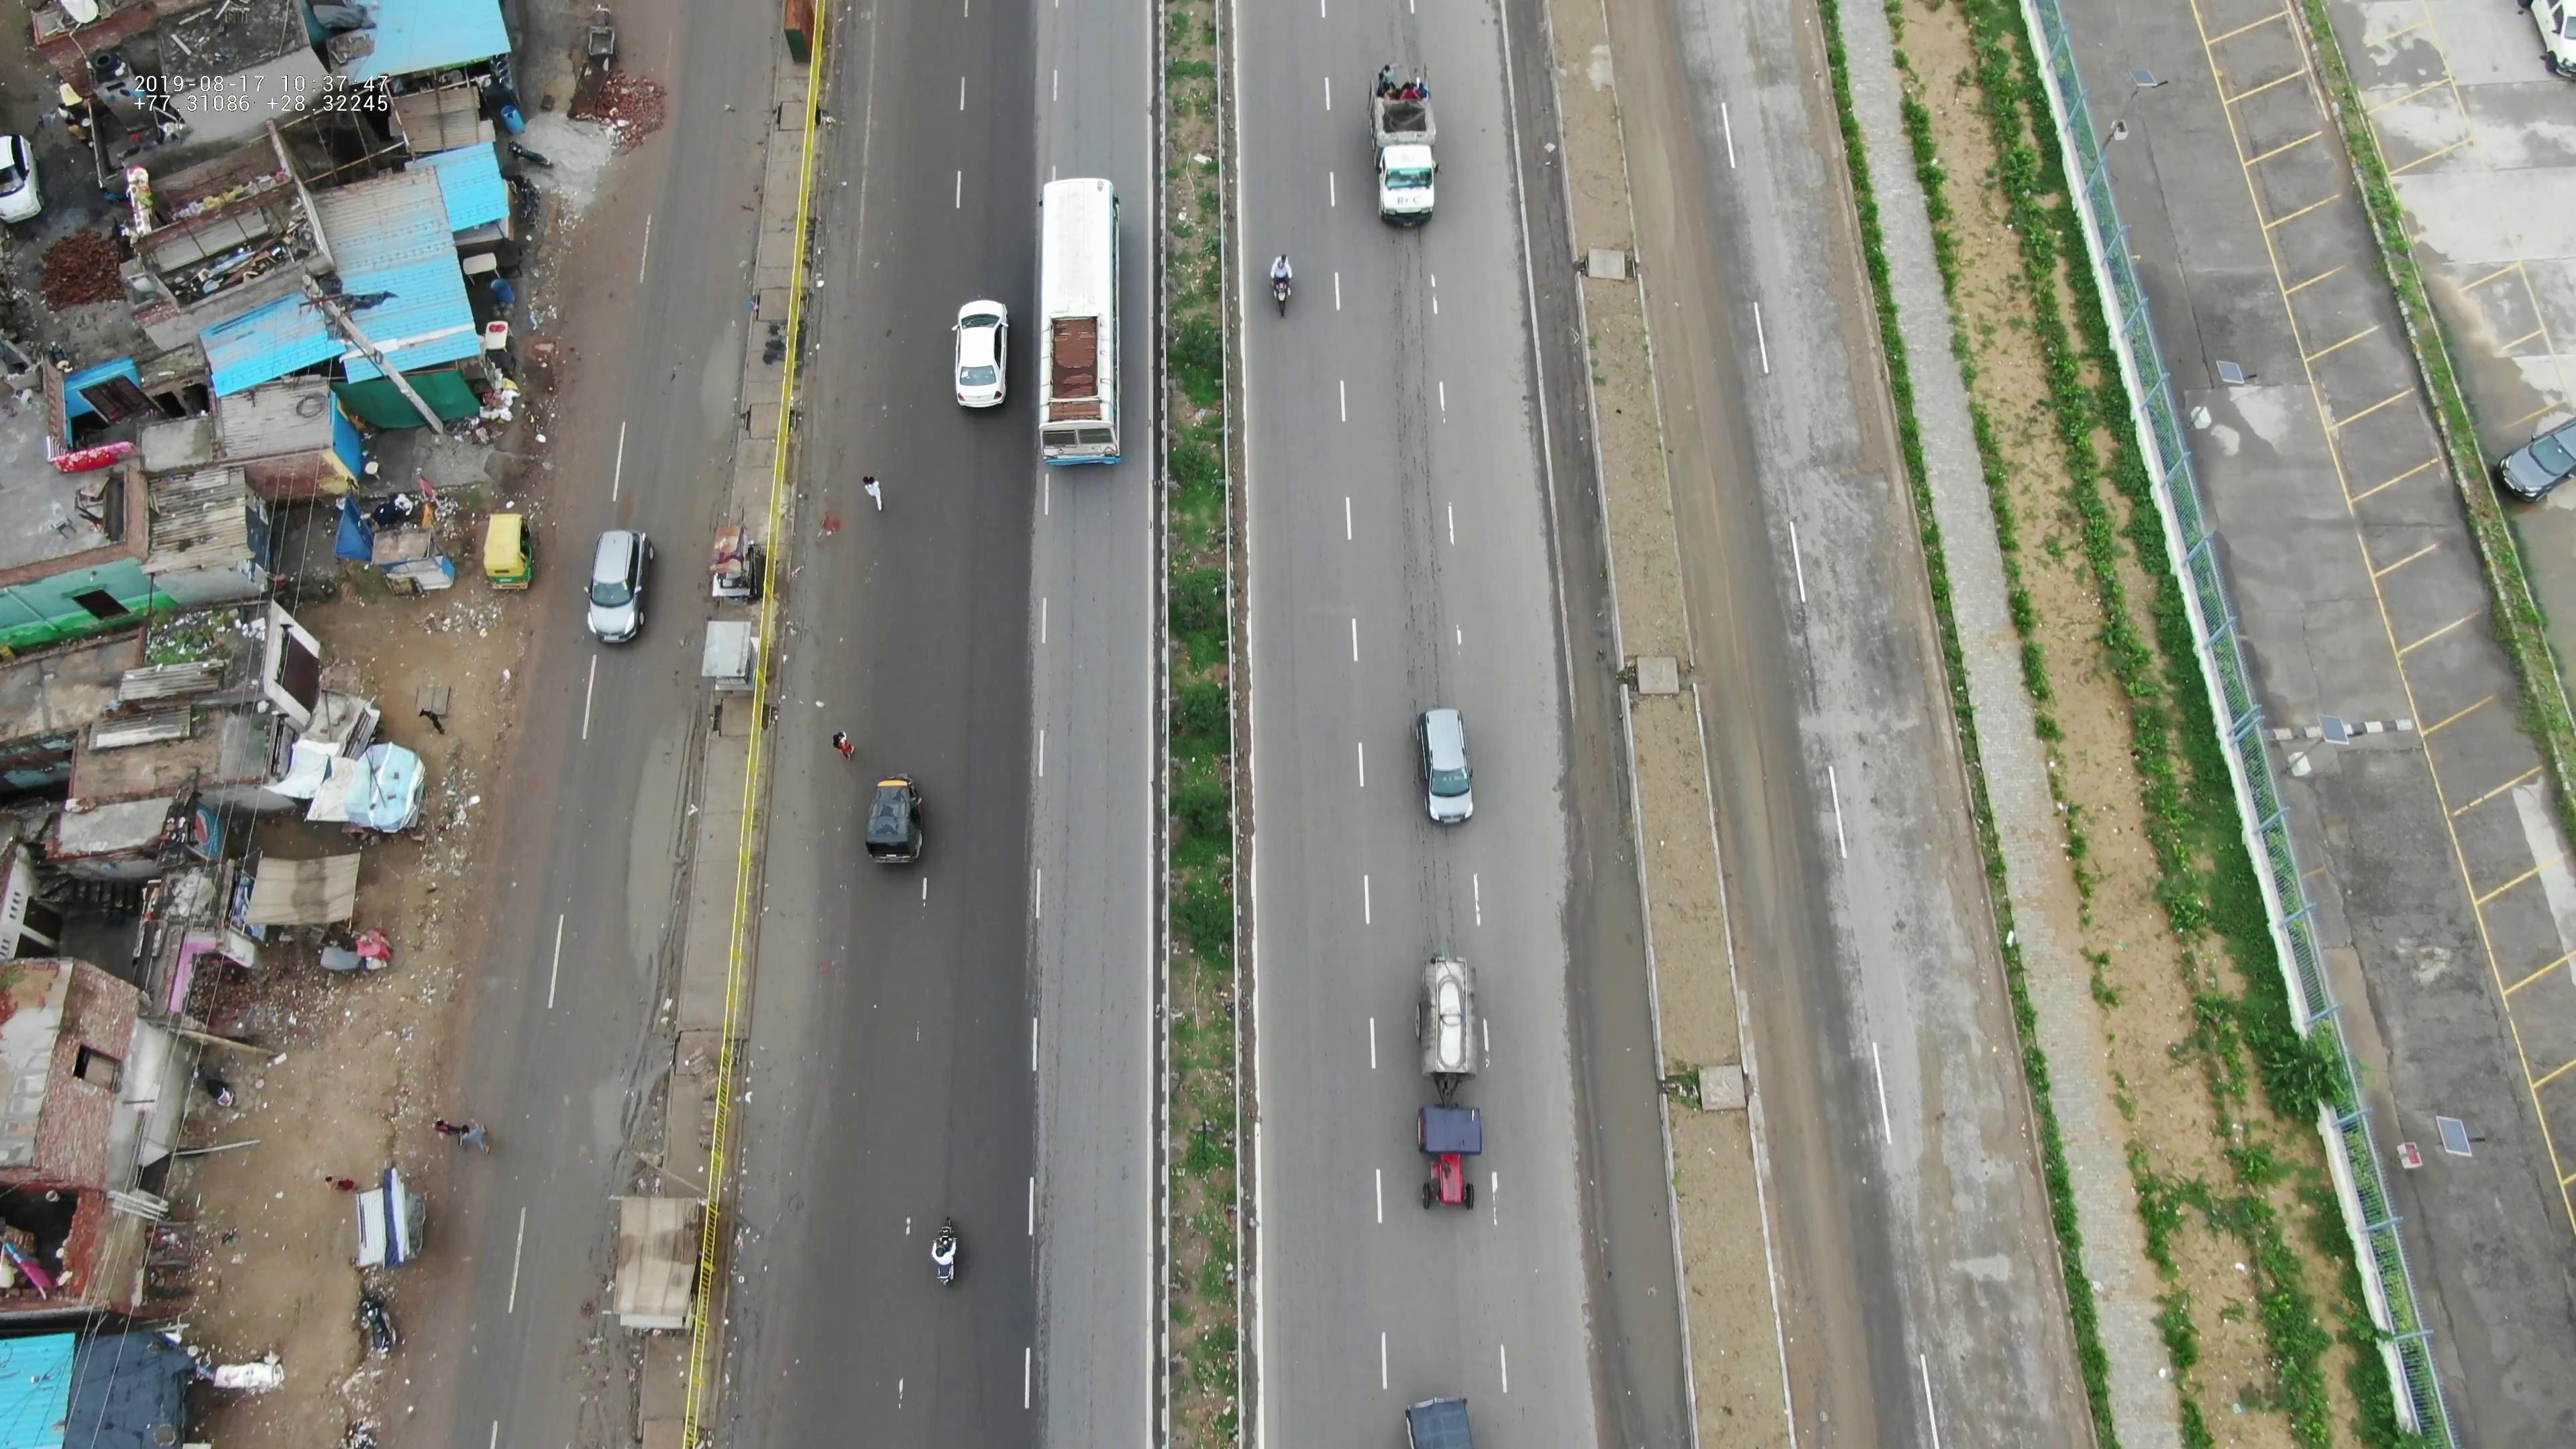Muddy_road: (743, 690, 833, 1249), (775, 216, 895, 621), (1702, 568, 1805, 901), (1638, 235, 1750, 538), (1601, 0, 1718, 216), (1776, 931, 1842, 1292)
Potholes: (1881, 1063, 2033, 1405)
Ravelling: (1380, 283, 1463, 688)
Waterlogging: (582, 725, 713, 1145), (683, 290, 763, 451)
